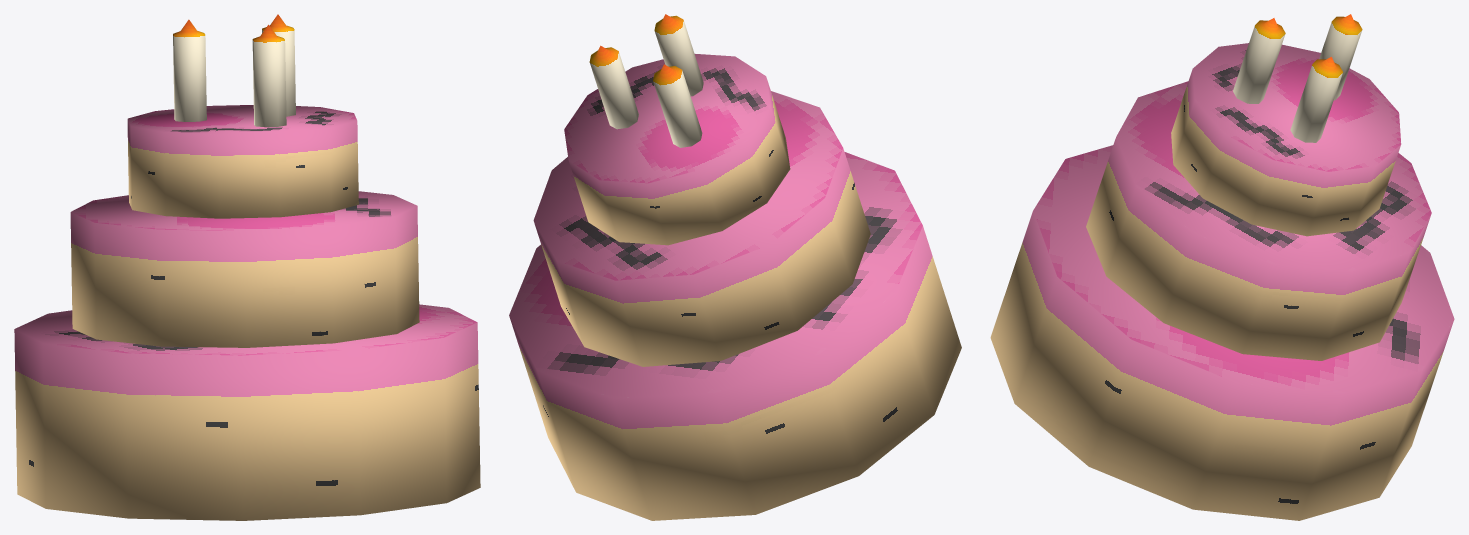
The model's file is amogus-hat-cake.fbx.
3 views of the same model, side by side, from view 1: azimuth 30°, elevation 25°; view 2: azimuth 150°, elevation 25°; view 3: azimuth 270°, elevation 25° (orthographic). The views are drawn at different scales.
Visible parts, largest first — view 1: CakeHat; view 2: CakeHat; view 3: CakeHat.
Boxes of the visible parts, <box> form: CakeHat: <box>14,14,480,520</box>; CakeHat: <box>509,14,961,520</box>; CakeHat: <box>990,14,1454,520</box>.
Bounding box in the file's own units: 60.38 × 61.52 × 67.43.
